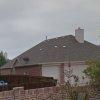Chimney: (66, 18, 84, 46)
